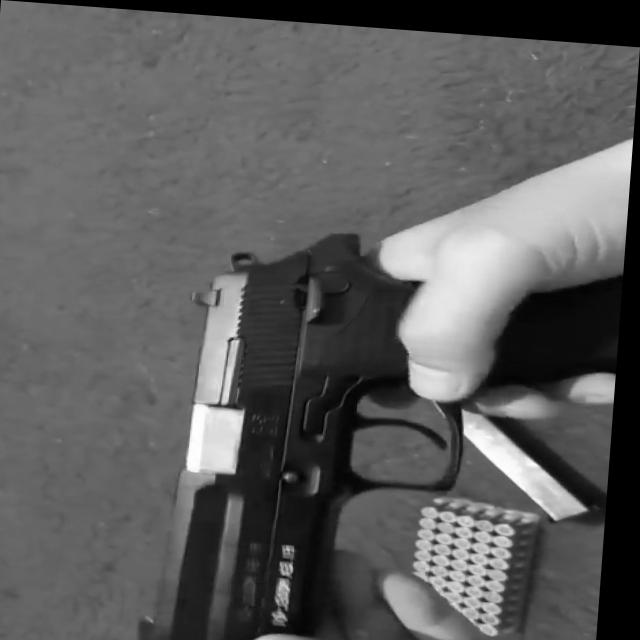handgun: (141, 241, 623, 640)
